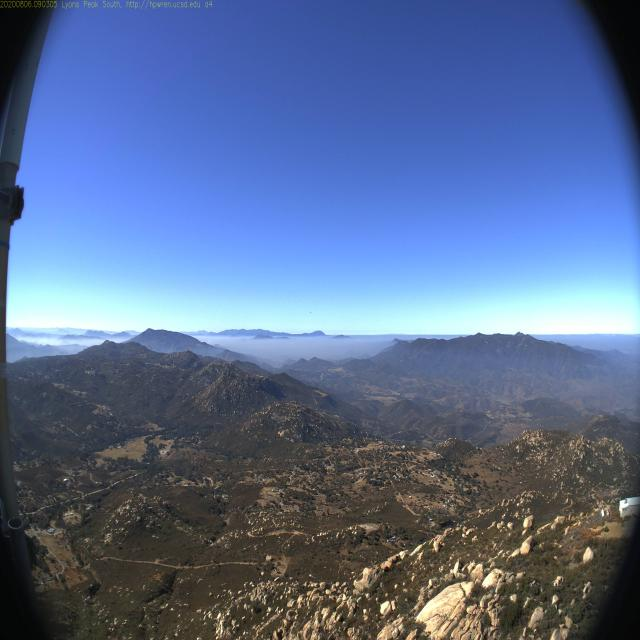smoke: (193, 340, 211, 357)
